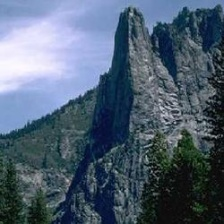neutral: (5, 4, 224, 221)
